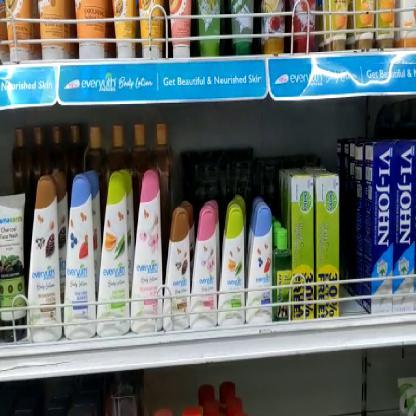Everyuth Naturals Body Lotion Nourishing Cocoa 200ml: (27, 175, 62, 343)
Everyuth Naturals Body Lotion Rejuvenating Flora 200ml: (132, 170, 162, 334)
Everyuth Naturals Body Lotion Soothing Citrus 200ml: (97, 172, 131, 336)
Everyuth Naturals Body Lotion Sun Care Berries SPF 15 200ml: (63, 174, 96, 342)
